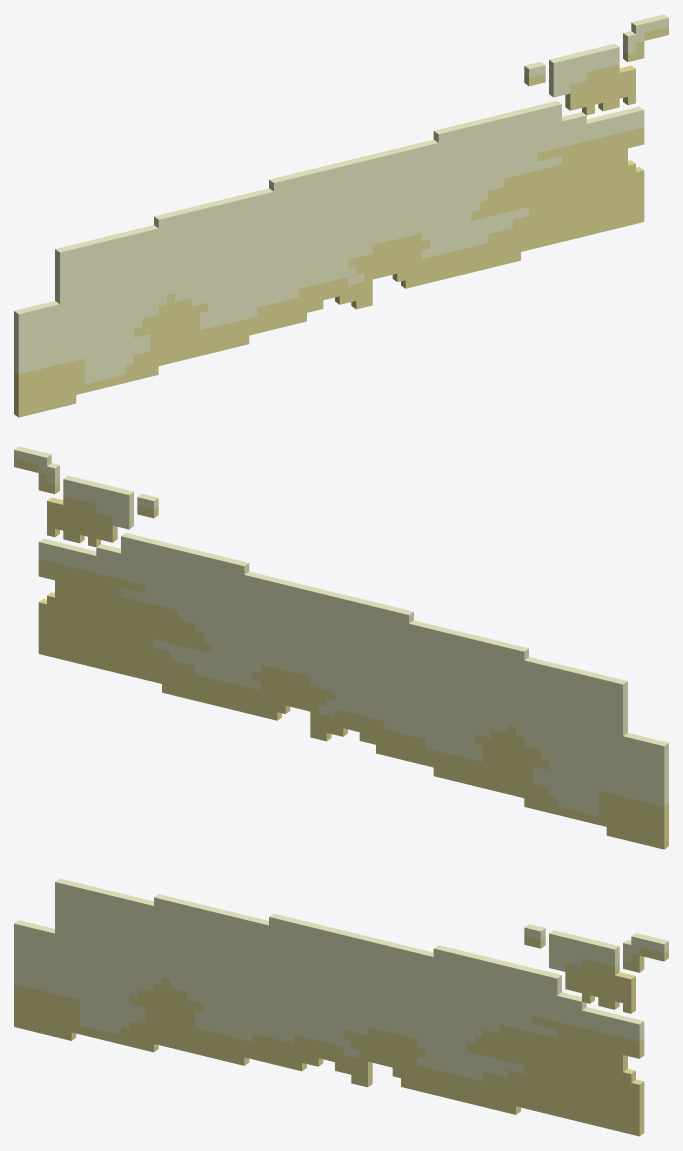
Rendered from yun3.obj.
3 views of the same model, one above another, from view 1: azimuth 30°, elevation 25°; view 2: azimuth 150°, elevation 25°; view 3: azimuth 330°, elevation 25° (orthographic).
Bounding box in the file's own units: 79 × 28 × 1.
1 material, 1 textured.
